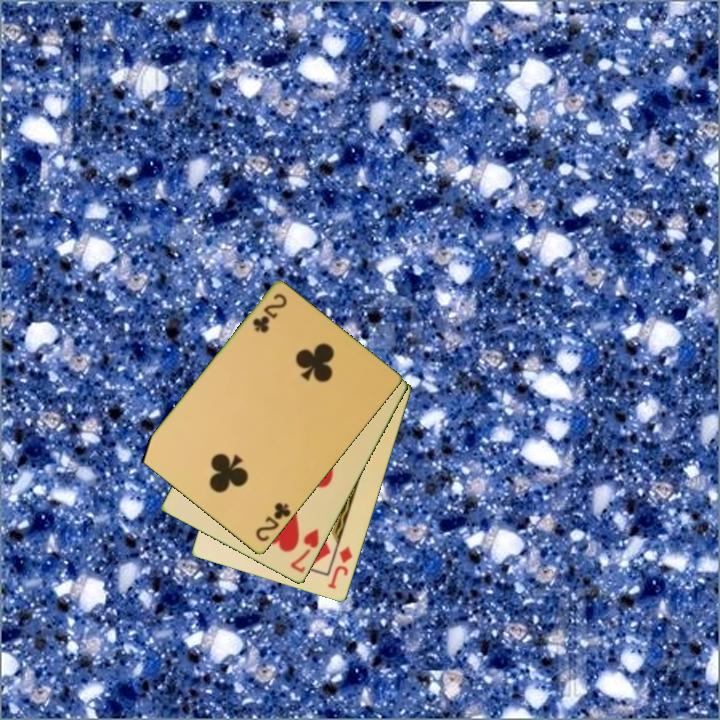2c: (252, 499, 294, 545), (249, 290, 290, 336)
7h: (287, 525, 322, 576)
Jd: (324, 543, 355, 592)
